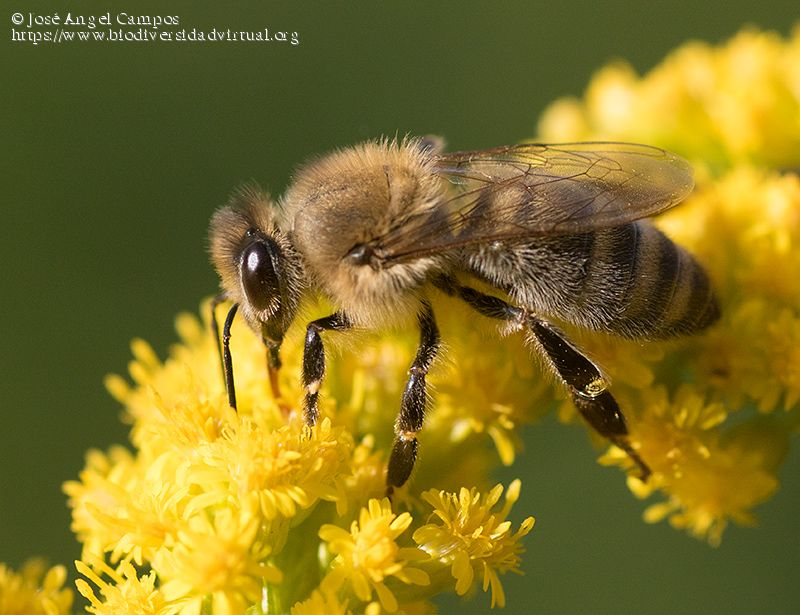bee: (180, 97, 739, 526)
